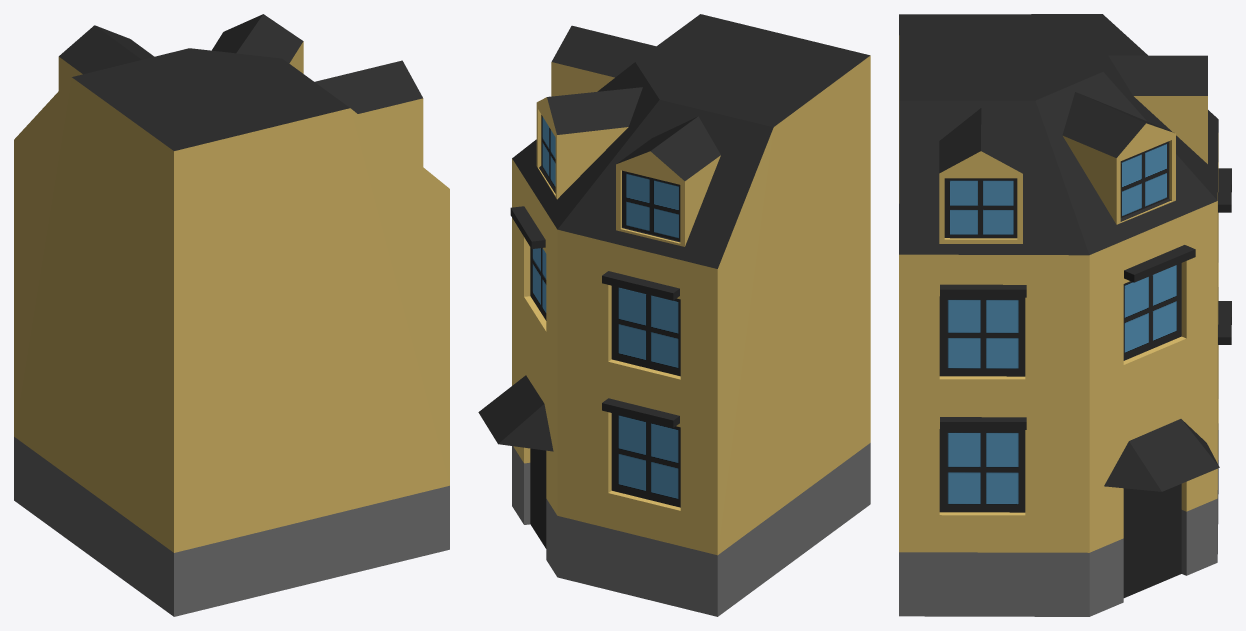
Rendered from CornerSquereYellow.obj.
The picture shows the model from 3 angles, left to right: view 1: azimuth 30°, elevation 25°; view 2: azimuth 150°, elevation 25°; view 3: azimuth 270°, elevation 25°; orthographic projection. The views are drawn at different scales.
Parts seen in each view (by area): view 1: NaroznikZolty; view 2: NaroznikZolty; view 3: NaroznikZolty.
Boxes of the visible parts, left/top/right/bottom form: NaroznikZolty: left=14, top=14, right=449, bottom=616; NaroznikZolty: left=478, top=14, right=870, bottom=616; NaroznikZolty: left=899, top=14, right=1231, bottom=616.
Bounding box in the file's own units: 5.21 × 8.07 × 5.21.
